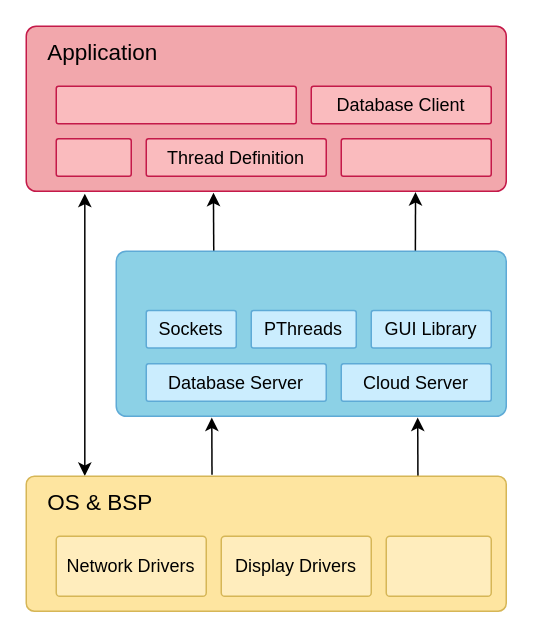
Some shapes in this 533 by 638 pixel diagram are drawn without their labels. Here are the shapes that lost their labels. From the top down, the box of each, then its label:
(55, 85, 296, 124): Network Management
(55, 137, 131, 176): GUI
(340, 137, 491, 176): Cloud Client
(115, 250, 506, 416): Middleware
(385, 535, 491, 596): I/O Drivers
